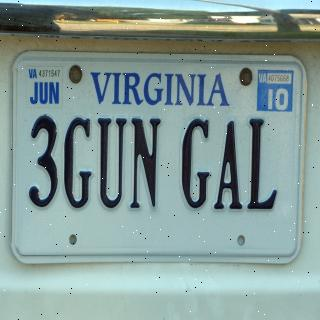license: (12, 50, 308, 266)
